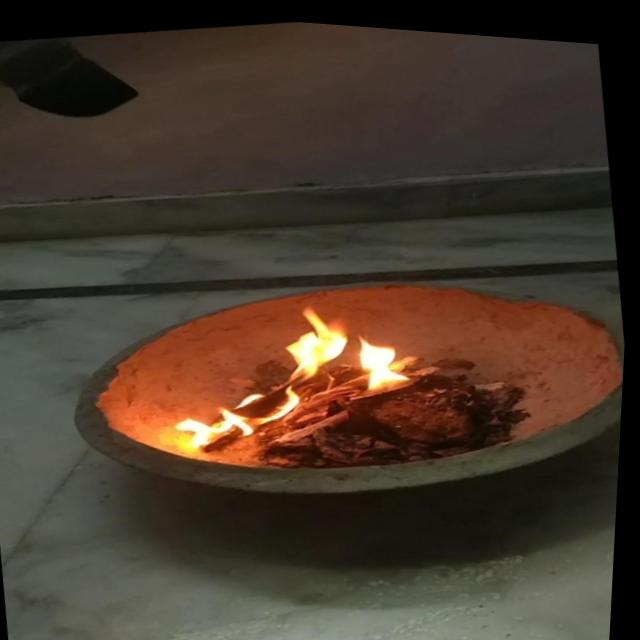fire: (170, 280, 435, 460)
